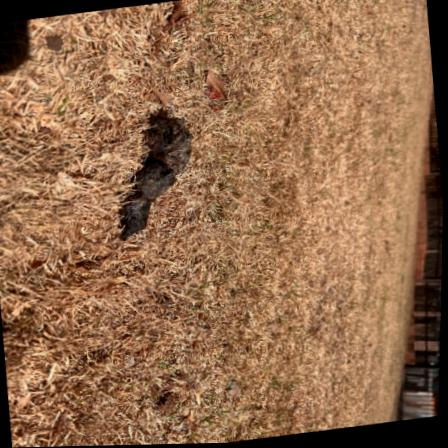dog-poop: (106, 80, 210, 250)
